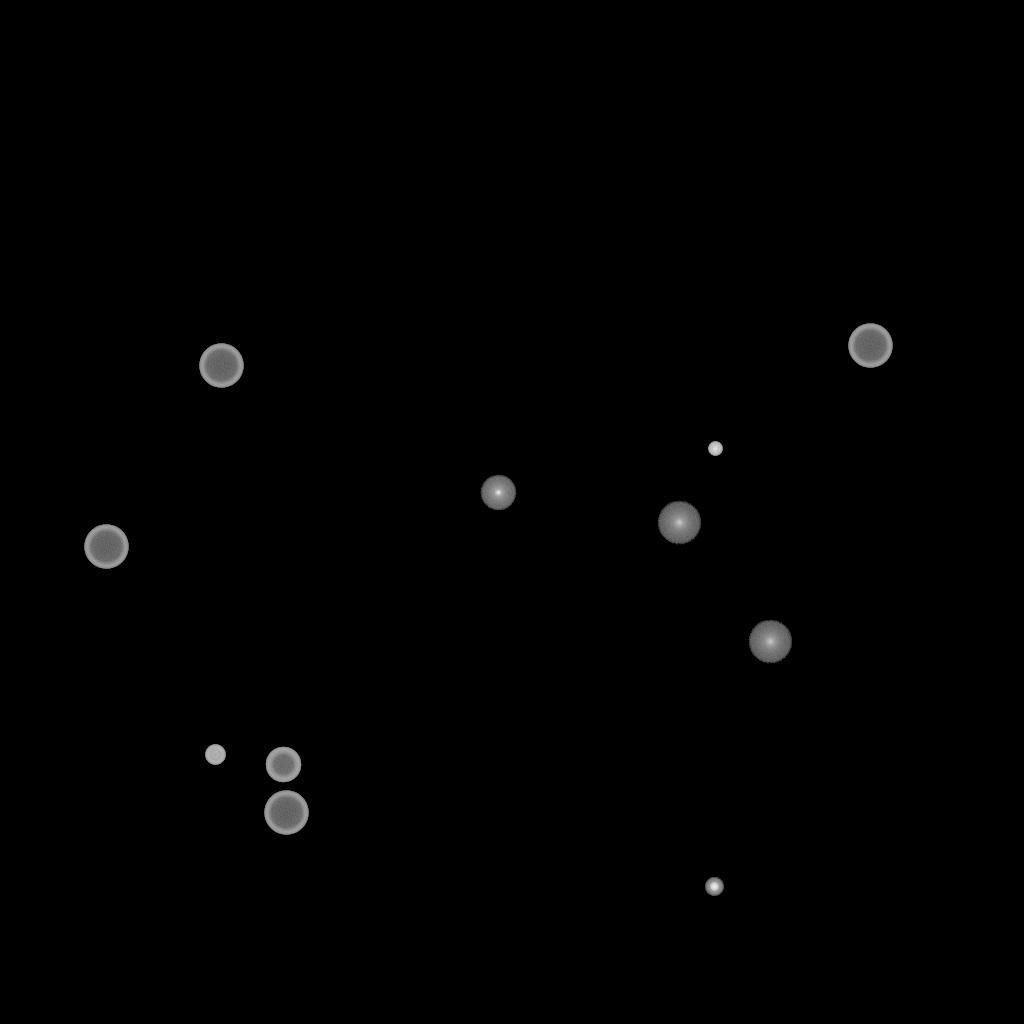depth:-20: (705, 878, 723, 896)
depth:-30: (708, 442, 722, 456)
depth:-40: (205, 745, 225, 765)
depth:-60: (265, 747, 301, 783)
depth:-70: (84, 525, 128, 569), (848, 324, 892, 368), (199, 344, 243, 388), (264, 791, 308, 835)
depth:0: (480, 475, 516, 511)
depth:10: (657, 501, 701, 545), (748, 620, 792, 664)
